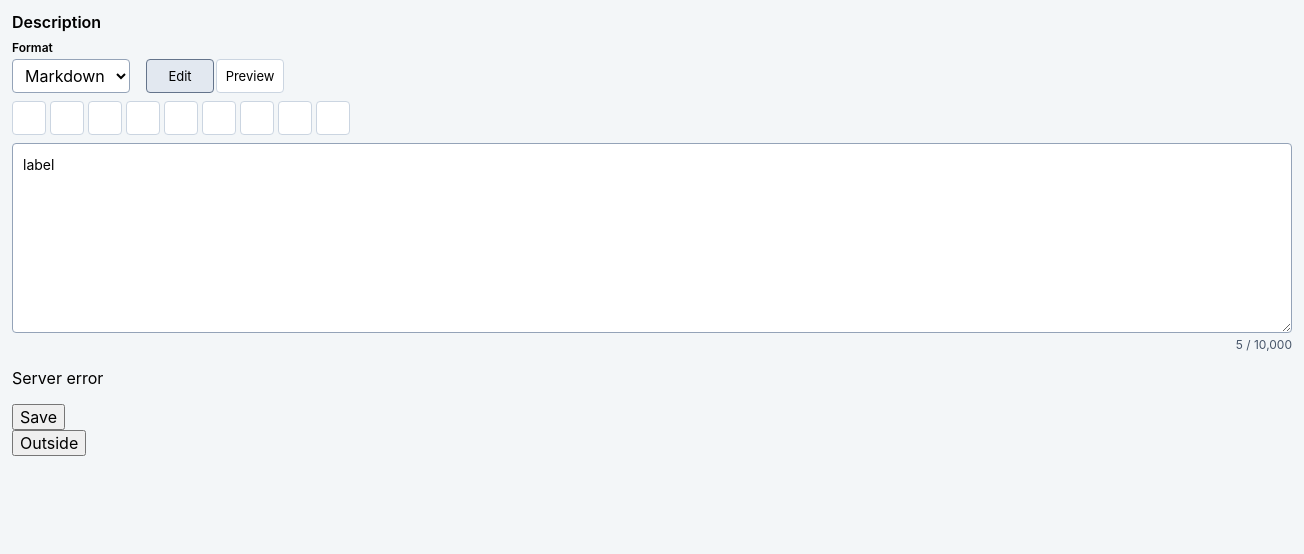
Test: AuthoredContentEditorComponent › rejects unsafe URLs with associated error feedback without changing the draft
Click the button named "Link": (333,118) [316,101,350,135]
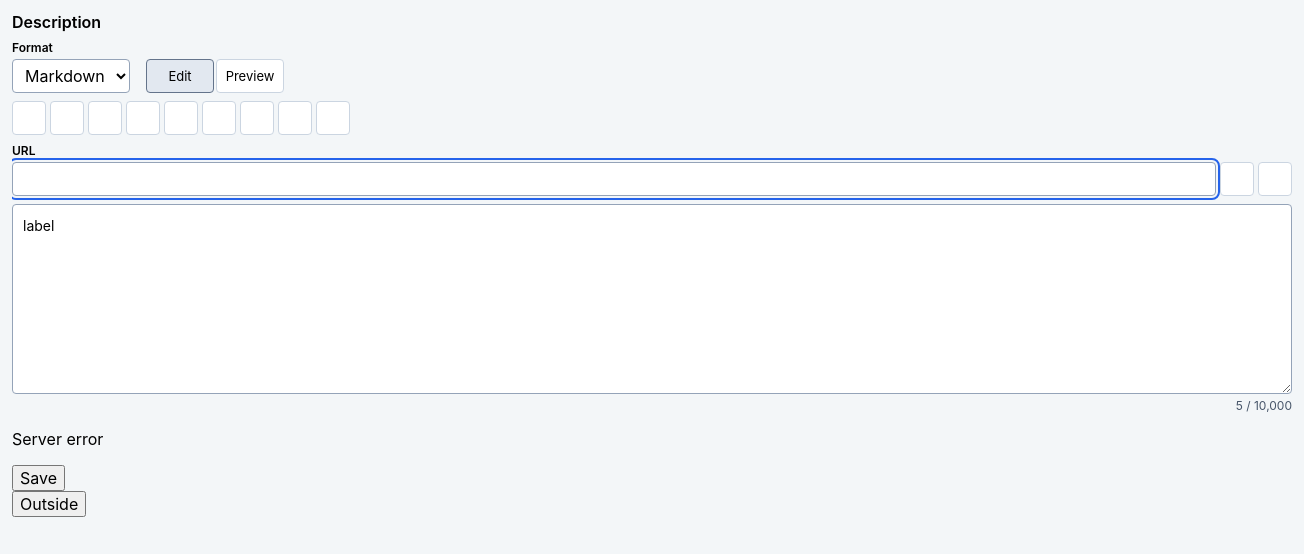
In the field labelled "URL": (614,179) [12,162,1216,196], type "javascript:alert(1)"
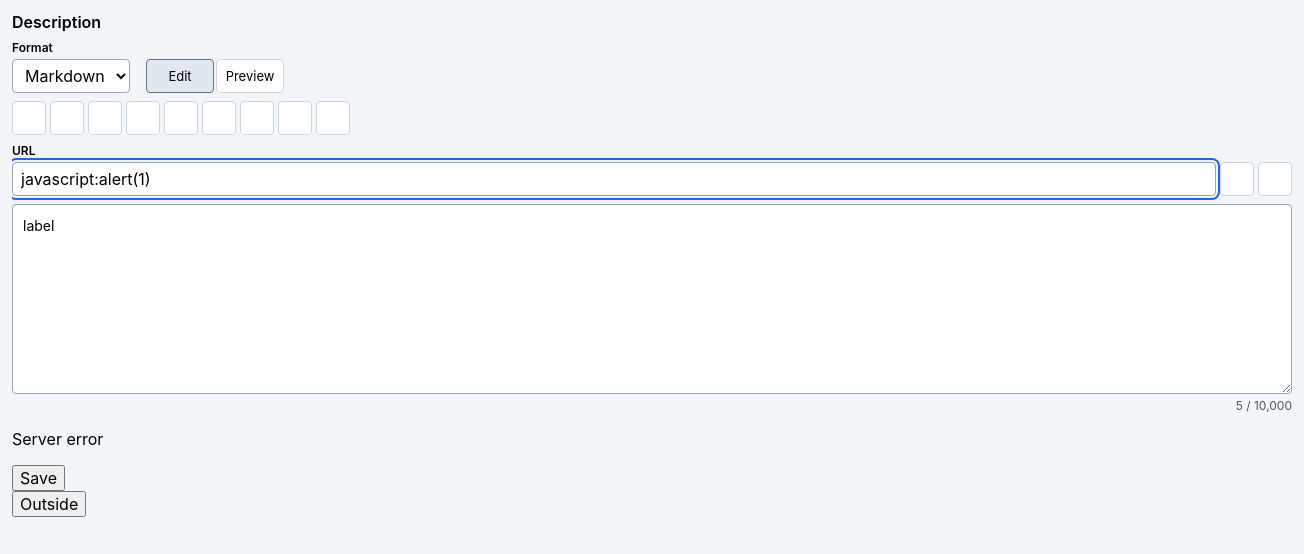
Press Enter in the field labelled "URL", box [12,162,1216,196]
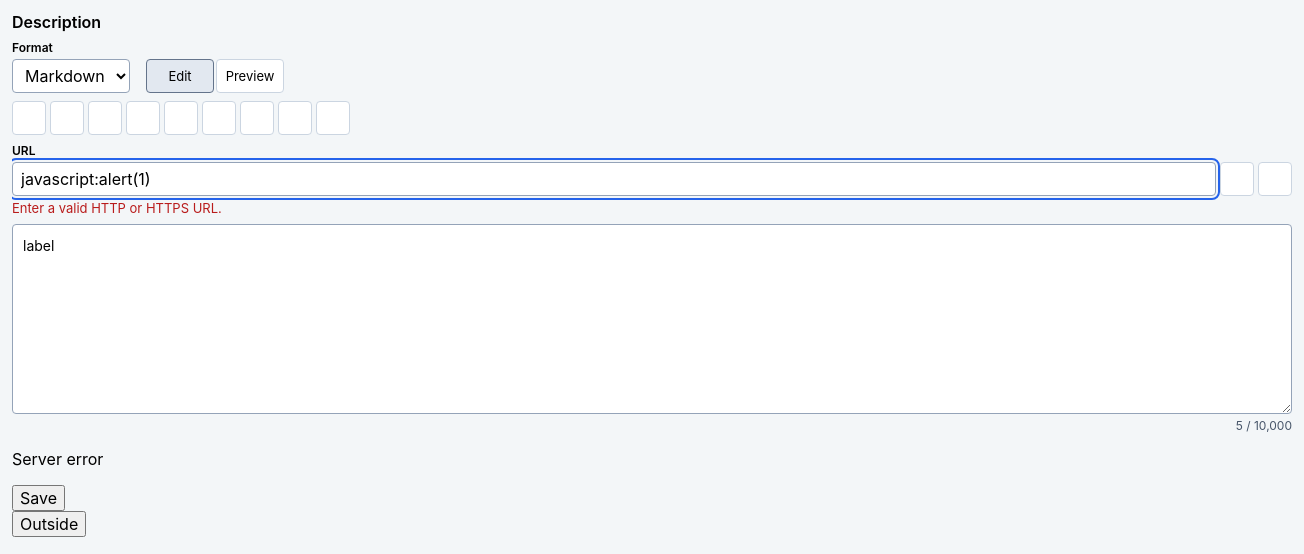
Expected: the message "Enter a valid HTTP or HTTPS URL." is shown, [12,200,222,216]
Replace the text in the field labelled "URL" with "https://example.com": (614,179) [12,162,1216,196]
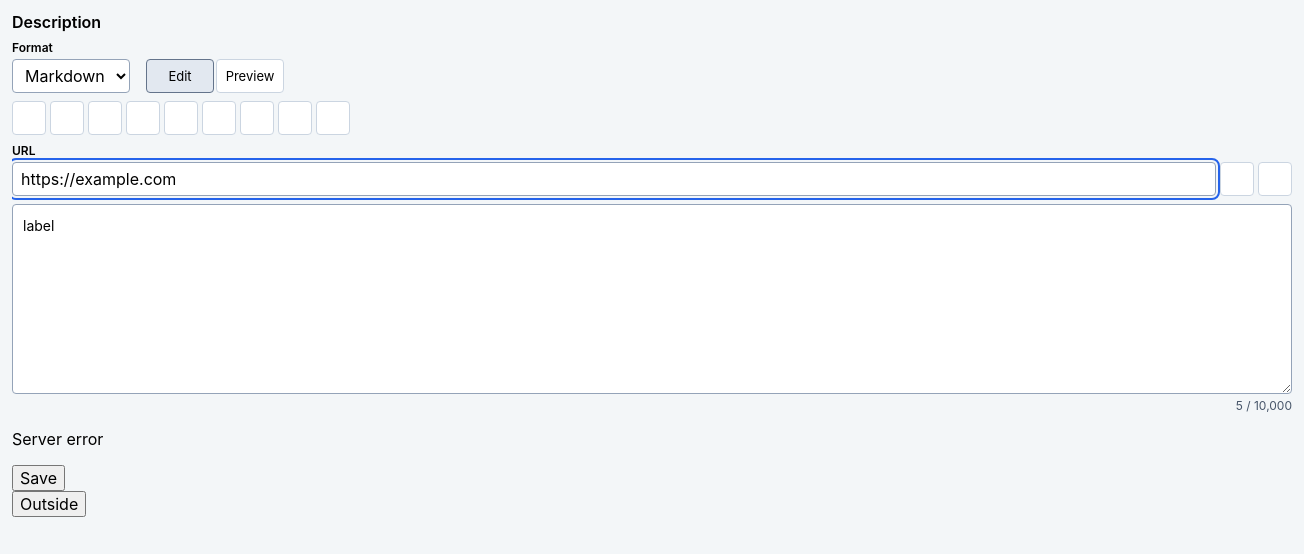
Expected: the message "Enter a valid HTTP or HTTPS URL." is gone
